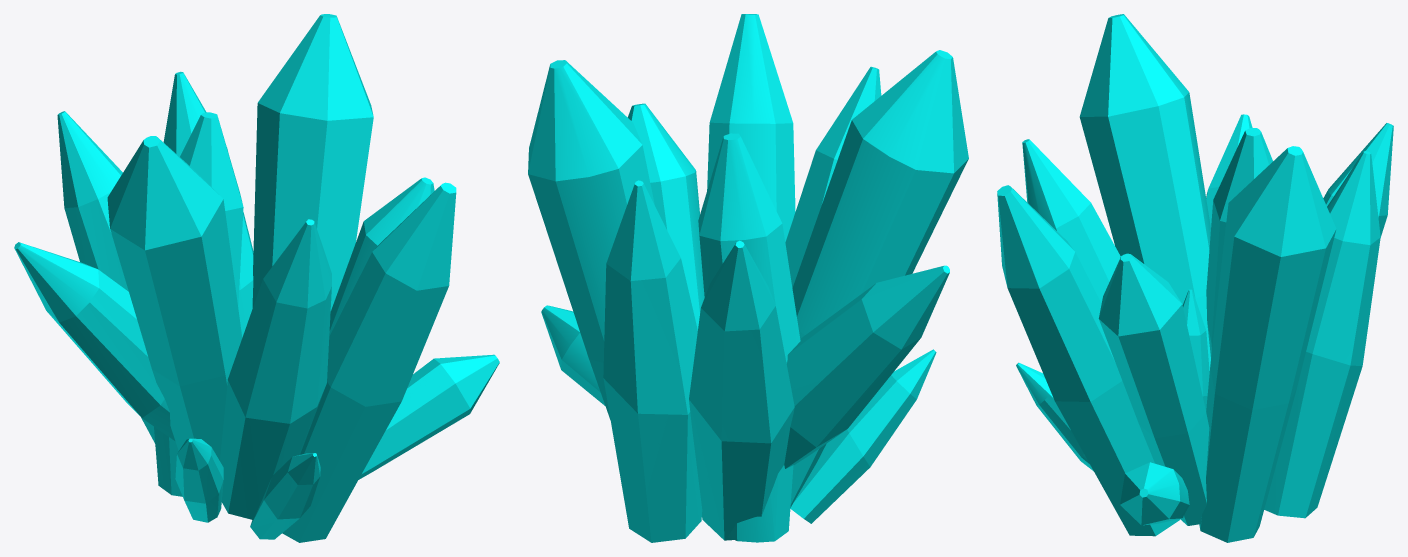
Rendered from Crystal_Bunch_LightBlue.fbx.
The picture shows the model from 3 angles, left to right: view 1: azimuth 30°, elevation 25°; view 2: azimuth 150°, elevation 25°; view 3: azimuth 270°, elevation 25°; orthographic projection. The views are drawn at different scales.
Parts seen in each view (by area): view 1: Model; view 2: Model; view 3: Model.
Part boxes in pixels (<box>): Model: <box>14,14,499,542</box>; Model: <box>528,14,968,542</box>; Model: <box>997,14,1393,542</box>.
Bounding box in the file's own units: 337 × 335 × 276.
